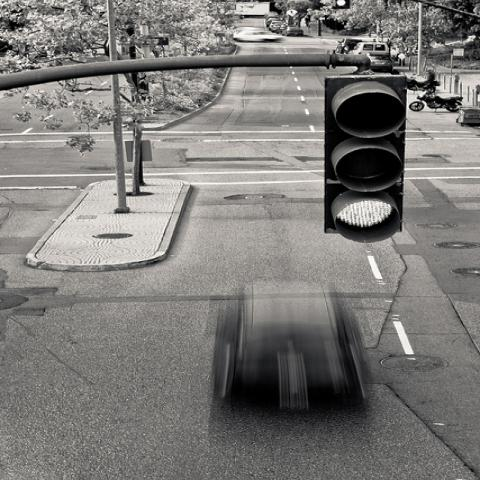car: (214, 273, 370, 411), (231, 28, 283, 44), (349, 42, 390, 58), (336, 38, 362, 53), (282, 27, 303, 36), (271, 24, 287, 34), (269, 20, 283, 30), (266, 17, 278, 24), (266, 14, 277, 20)
motorcycle: (410, 92, 463, 114), (406, 78, 441, 94)
